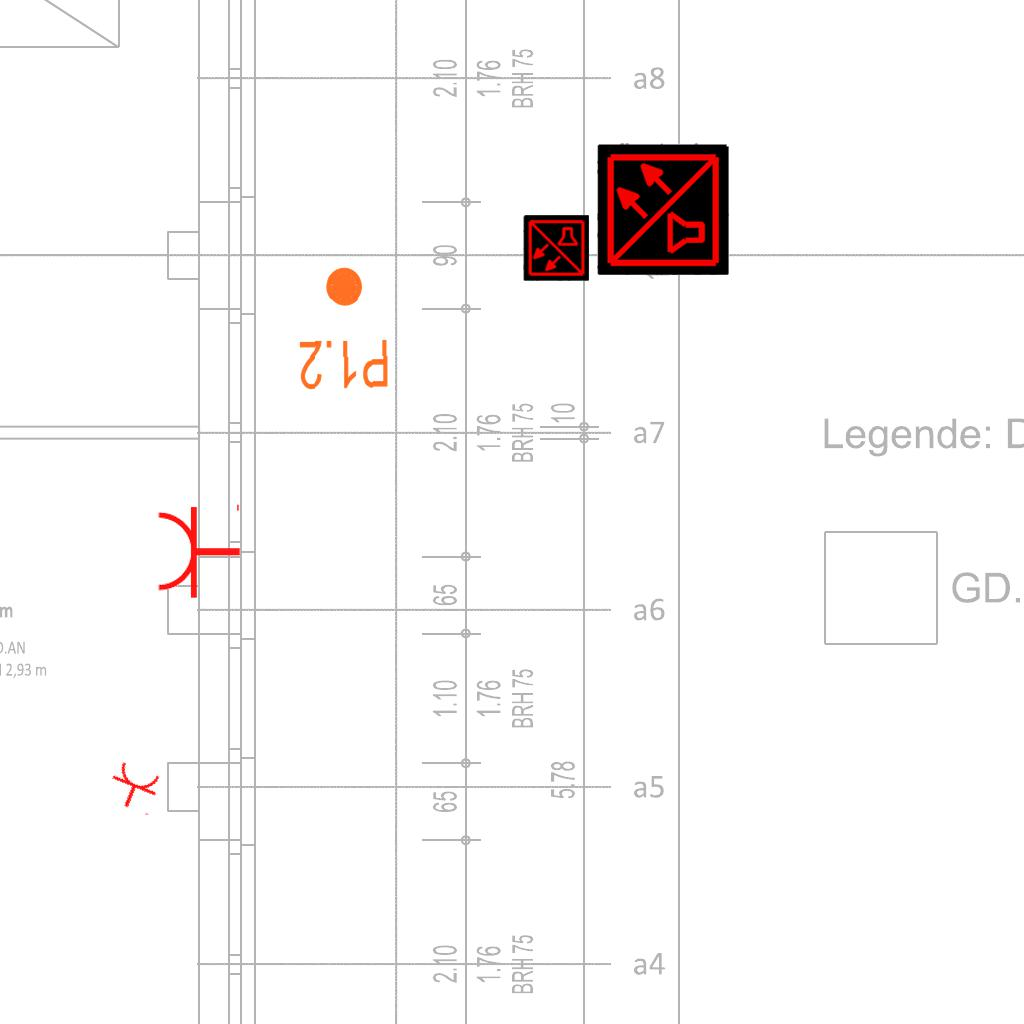Downlight_LED_Einbauleuchten_Flur: (295, 263, 392, 393)
OKW_Multisensormelder_(Kombination_optischer_Rauch-Kahlenmonoxid_Waerme-Melder): (597, 143, 729, 275), (523, 215, 589, 281)
Schukosteckdose_einfach: (155, 500, 242, 600), (103, 758, 166, 818)
